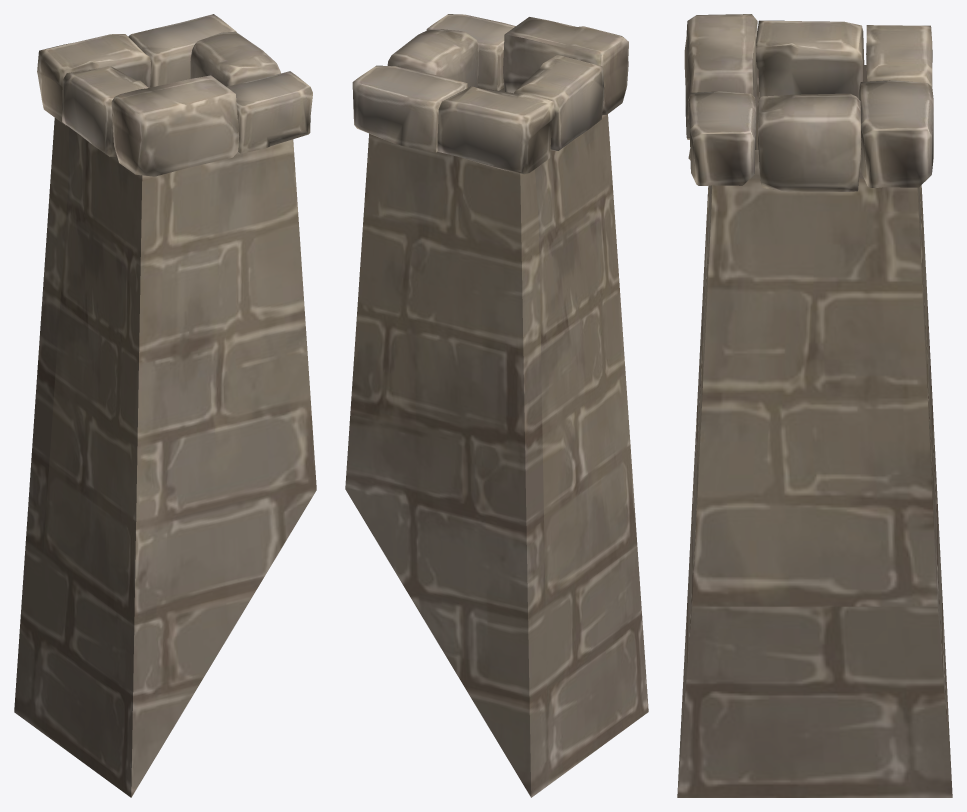
File: Prop_Chimney.glb
3 renders of one model, left to right at view 1: azimuth 30°, elevation 25°; view 2: azimuth 150°, elevation 25°; view 3: azimuth 270°, elevation 25°, orthographic. The views are drawn at different scales.
Visible parts, largest first — view 1: Prop_Chimney; view 2: Prop_Chimney; view 3: Prop_Chimney.
Part boxes in pixels (bbox=[...]): Prop_Chimney: bbox=[14, 14, 316, 797]; Prop_Chimney: bbox=[345, 14, 648, 797]; Prop_Chimney: bbox=[677, 14, 952, 797].
Bounding box in the file's own units: 0.9458 × 3.18 × 1.
2 materials, 2 textured.
